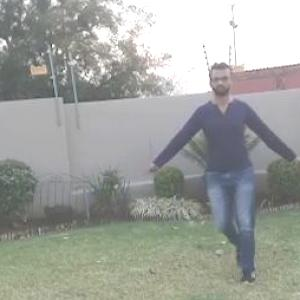land: (161, 73, 293, 255)
